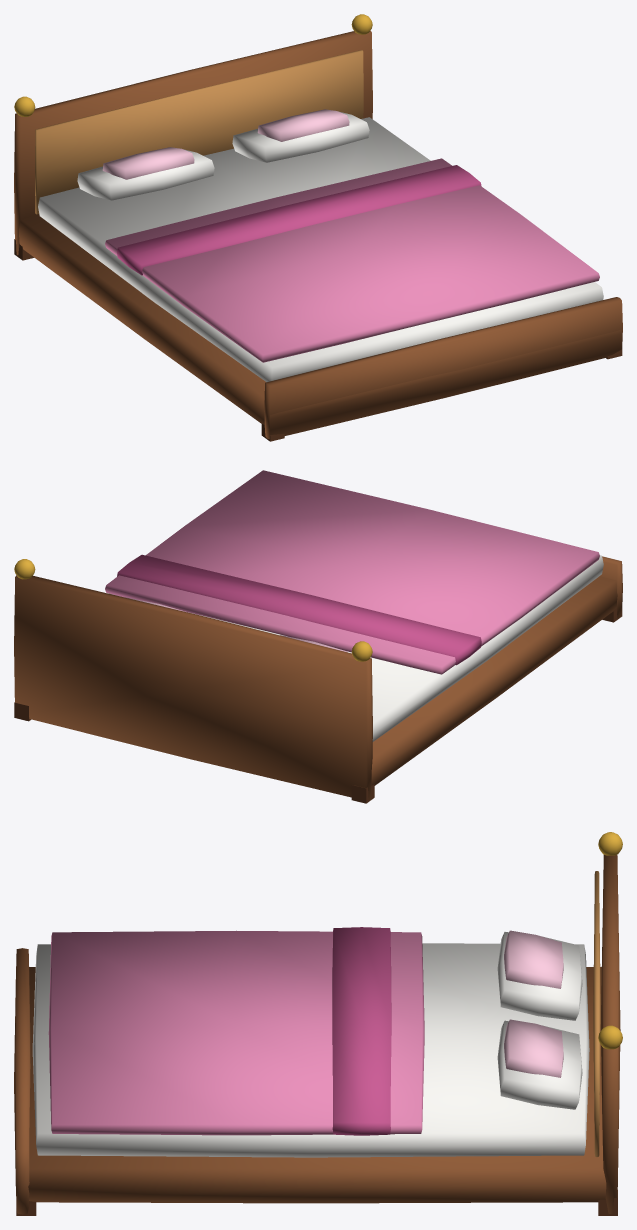
Rendered from bed_double.glb.
The picture shows the model from 3 angles, top to bottom: view 1: azimuth 30°, elevation 25°; view 2: azimuth 150°, elevation 25°; view 3: azimuth 270°, elevation 25°; orthographic projection. The views are drawn at different scales.
Visible parts, largest first — view 1: root; view 2: root; view 3: root.
Boxes of the visible parts, x1=… form: root: x1=14, y1=14, x2=622, y2=441; root: x1=14, y1=470, x2=622, y2=803; root: x1=14, y1=832, x2=622, y2=1215.
Size of the model in its own units: 3.9 by 1.65 by 4.92.
